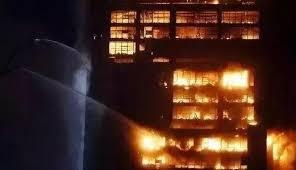fire: (141, 62, 256, 162), (265, 128, 294, 165)
